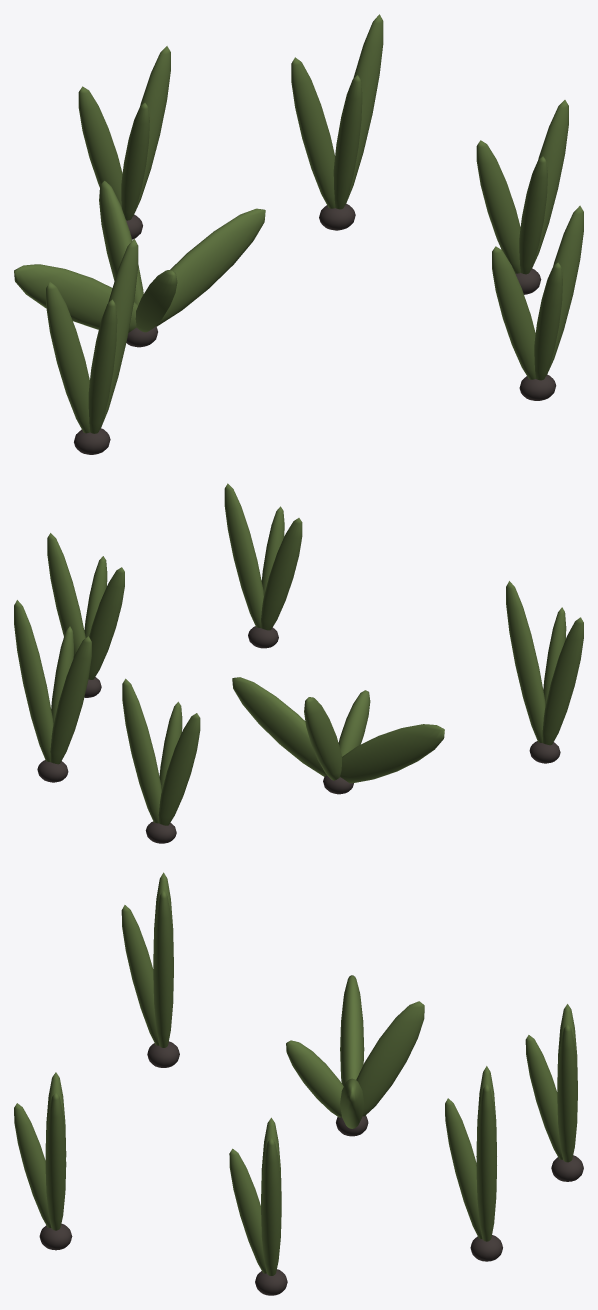
The model's file is CMU3DRMCGrassb4.glb.
The picture shows the model from 3 angles, top to bottom: view 1: azimuth 30°, elevation 25°; view 2: azimuth 150°, elevation 25°; view 3: azimuth 270°, elevation 25°; orthographic projection. The views are drawn at different scales.
Visible parts, largest first — view 1: tuft 5 continuous leaf 1, tuft 5 continuous leaf 0, tuft 2 continuous leaf 0, tuft 0 continuous leaf 0, tuft 3 continuous leaf 0, tuft 1 continuous leaf 0, tuft 4 continuous leaf 0, tuft 0 continuous leaf 2, tuft 2 continuous leaf 2, tuft 2 continuous leaf 1, tuft 0 continuous leaf 1, tuft 3 continuous leaf 2 (+10 smaller); view 2: tuft 5 continuous leaf 0, tuft 5 continuous leaf 1, tuft 2 continuous leaf 1, tuft 0 continuous leaf 1, tuft 3 continuous leaf 1, tuft 4 continuous leaf 1, tuft 0 continuous leaf 0, tuft 2 continuous leaf 0, tuft 4 continuous leaf 0, tuft 3 continuous leaf 0, tuft 1 continuous leaf 1, tuft 1 continuous leaf 0 (+11 smaller); view 3: tuft 5 continuous leaf 2, tuft 2 continuous leaf 1, tuft 0 continuous leaf 1, tuft 4 continuous leaf 1, tuft 1 continuous leaf 1, tuft 3 continuous leaf 1, tuft 2 continuous leaf 2, tuft 0 continuous leaf 2, tuft 5 continuous leaf 0, tuft 5 continuous leaf 3, tuft 1 continuous leaf 2, tuft 4 continuous leaf 2 (+7 smaller).
Part boxes in pixels (bbox=[...]): tuft 5 continuous leaf 1: bbox=[156, 208, 265, 326]; tuft 5 continuous leaf 0: bbox=[14, 264, 137, 332]; tuft 2 continuous leaf 0: bbox=[46, 282, 90, 433]; tuft 0 continuous leaf 0: bbox=[291, 57, 335, 208]; tuft 3 continuous leaf 0: bbox=[492, 246, 535, 379]; tuft 1 continuous leaf 0: bbox=[476, 140, 520, 273]; tuft 4 continuous leaf 0: bbox=[78, 86, 122, 208]; tuft 0 continuous leaf 2: bbox=[333, 75, 362, 209]; tuft 2 continuous leaf 2: bbox=[88, 299, 117, 433]; tuft 2 continuous leaf 1: bbox=[99, 238, 138, 429]; tuft 0 continuous leaf 1: bbox=[345, 14, 383, 205]; tuft 3 continuous leaf 2: bbox=[534, 262, 562, 380]; tuft 5 continuous leaf 0: bbox=[340, 724, 444, 783]; tuft 5 continuous leaf 1: bbox=[232, 677, 326, 776]; tuft 2 continuous leaf 1: bbox=[506, 581, 545, 742]; tuft 0 continuous leaf 1: bbox=[14, 600, 53, 761]; tuft 3 continuous leaf 1: bbox=[224, 483, 263, 627]; tuft 4 continuous leaf 1: bbox=[122, 678, 161, 823]; tuft 0 continuous leaf 0: bbox=[50, 636, 91, 764]; tuft 2 continuous leaf 0: bbox=[542, 617, 583, 745]; tuft 4 continuous leaf 0: bbox=[158, 713, 200, 825]; tuft 3 continuous leaf 0: bbox=[261, 518, 302, 630]; tuft 1 continuous leaf 1: bbox=[47, 533, 85, 657]; tuft 1 continuous leaf 0: bbox=[88, 567, 124, 679]; tuft 5 continuous leaf 2: bbox=[356, 1001, 424, 1116]; tuft 2 continuous leaf 1: bbox=[153, 890, 173, 1047]; tuft 0 continuous leaf 1: bbox=[476, 1084, 496, 1241]; tuft 4 continuous leaf 1: bbox=[557, 1024, 577, 1162]; tuft 1 continuous leaf 1: bbox=[261, 1138, 281, 1275]; tuft 3 continuous leaf 1: bbox=[45, 1092, 66, 1230]; tuft 2 continuous leaf 2: bbox=[121, 905, 159, 1045]; tuft 0 continuous leaf 2: bbox=[445, 1098, 482, 1238]; tuft 5 continuous leaf 0: bbox=[340, 975, 364, 1086]; tuft 5 continuous leaf 3: bbox=[286, 1040, 343, 1117]; tuft 1 continuous leaf 2: bbox=[229, 1148, 266, 1273]; tuft 4 continuous leaf 2: bbox=[525, 1035, 562, 1159].
Bounding box in the file's own units: 0.7422 × 0.2506 × 0.6614.
